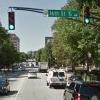traffic lights: (7, 9, 15, 32)
